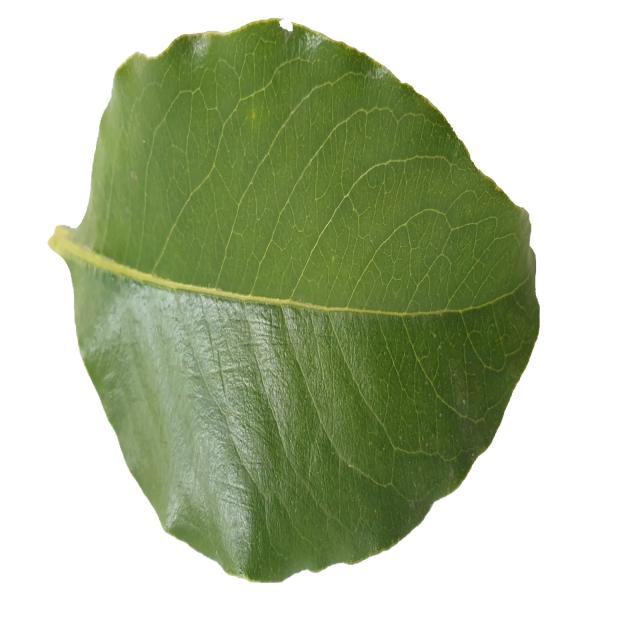Medicinal-Sandalwood: (46, 13, 541, 586)
